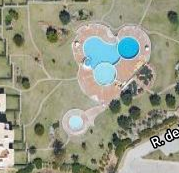pool: (83, 35, 135, 79)
